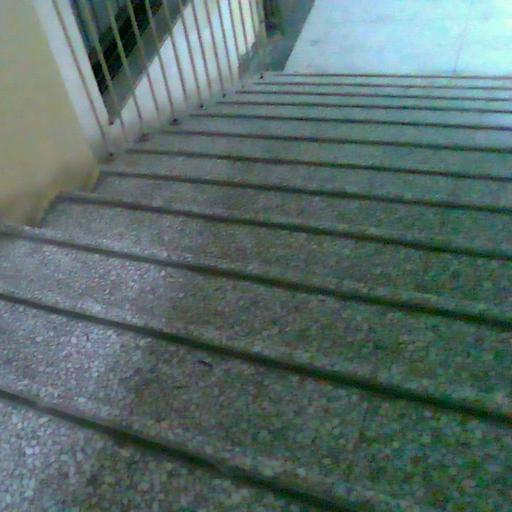Stairs: (0, 74, 512, 512)
